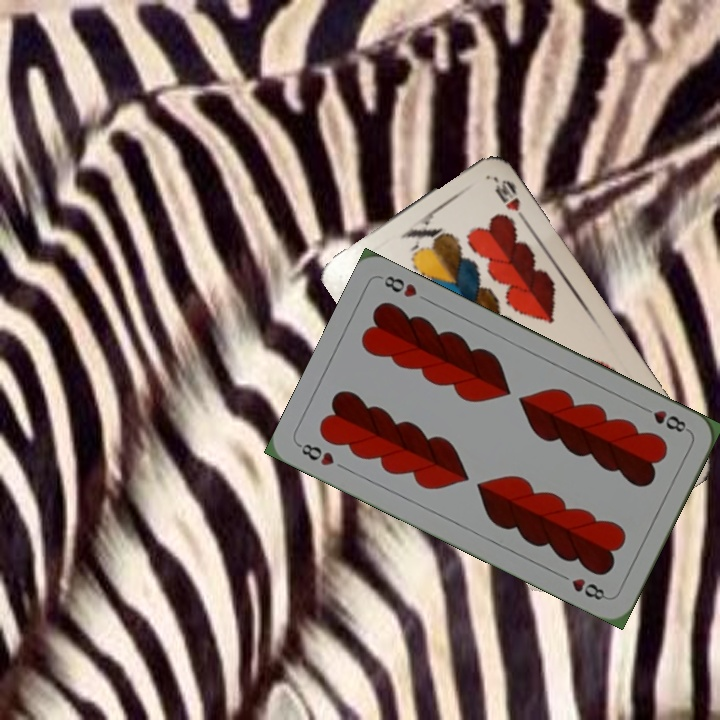H8: (637, 402, 692, 435), (294, 439, 337, 469)
